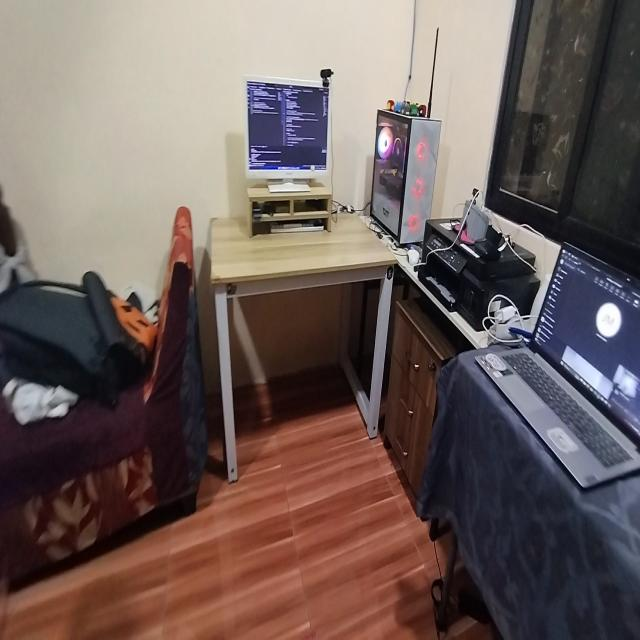table: (205, 194, 393, 483)
